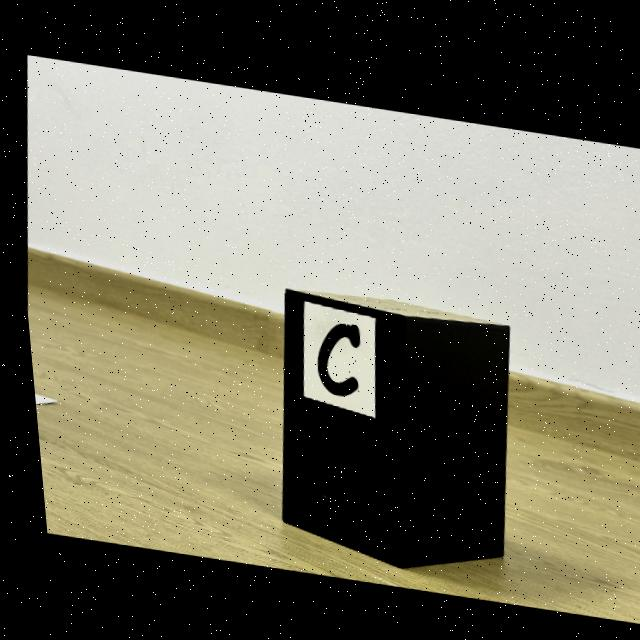C: (311, 319, 354, 392)
